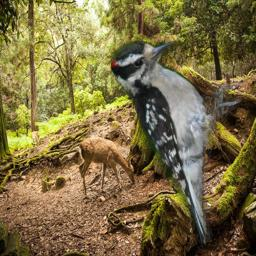Woodpecker: (111, 41, 242, 245)
